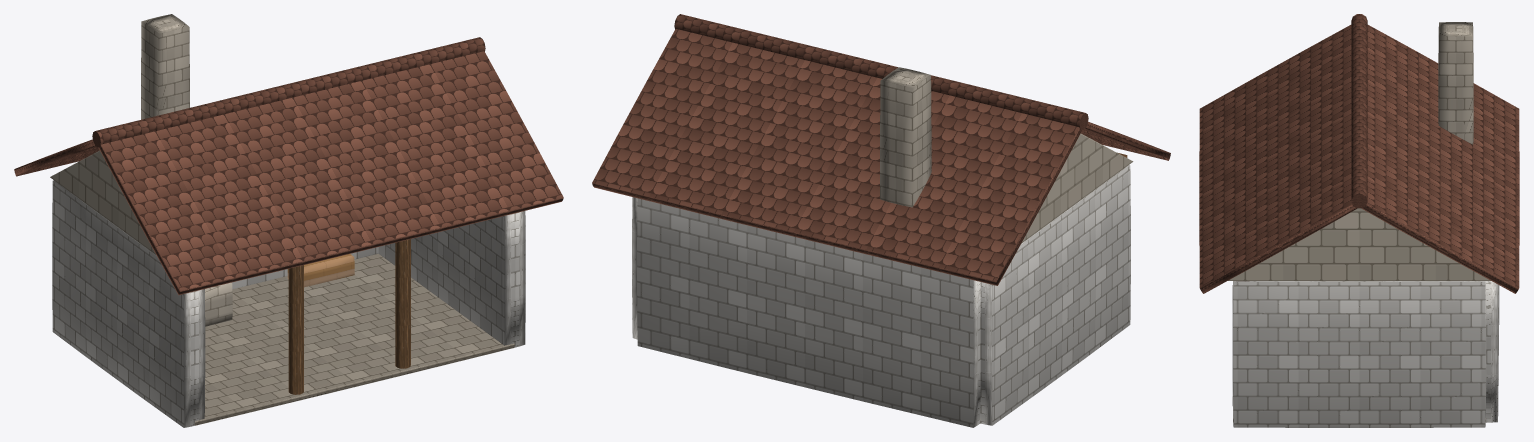
File: building_smithy.glb
The picture shows the model from 3 angles, left to right: view 1: azimuth 30°, elevation 25°; view 2: azimuth 150°, elevation 25°; view 3: azimuth 270°, elevation 25°; orthographic projection. The views are drawn at different scales.
Parts seen in each view (by area): view 1: building_smithy, building_smithy_stone_blocks; view 2: building_smithy_stone_blocks, building_smithy; view 3: building_smithy, building_smithy_stone_blocks.
Part boxes in pixels (x1,y1,x2,y2): building_smithy: [14, 37, 563, 394]; building_smithy_stone_blocks: [50, 14, 525, 427]; building_smithy_stone_blocks: [632, 67, 1133, 427]; building_smithy: [592, 14, 1170, 285]; building_smithy: [1199, 14, 1519, 293]; building_smithy_stone_blocks: [1228, 22, 1499, 427].
Size of the model in its own units: 8.4 by 6.2 by 6.3.
Materials: 9 (5 with a texture image).
